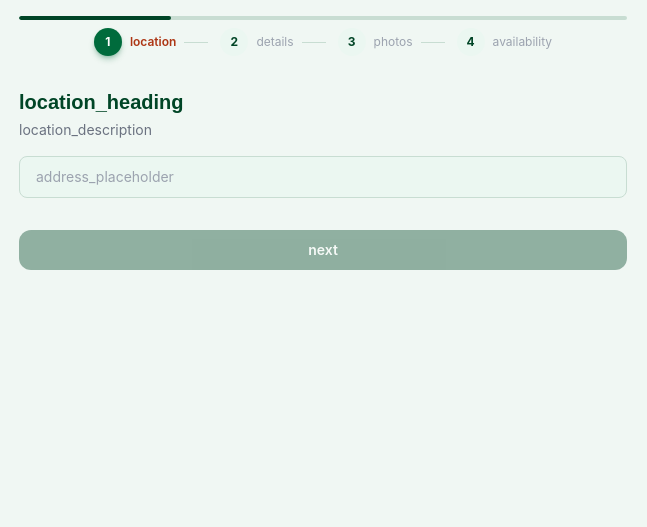
Test case: Listing wizard Step 1 — Location › selecting a geocoding result activates "Next" button
Step 1. Type "Rue N" into the field with placeholder "address_placeholder" → (323, 177), box [19,156,627,198]
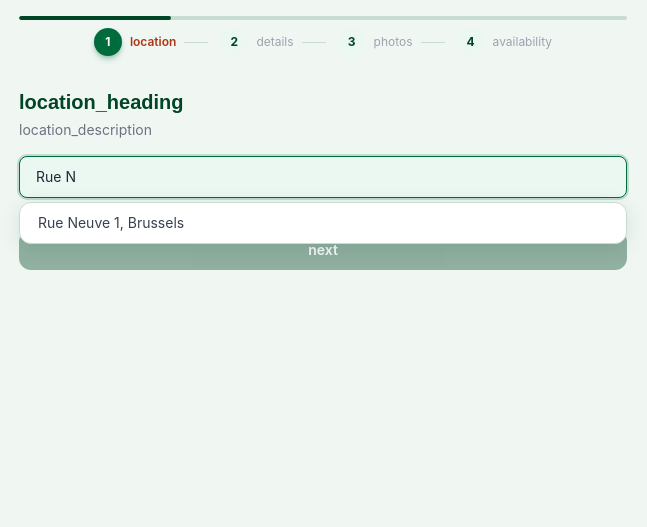
expect the list item "Rue Neuve 1, Brussels" is shown: met
Step 2. Click the list item "Rue Neuve 1, Brussels" → click(111, 222), box [38,214,184,231]
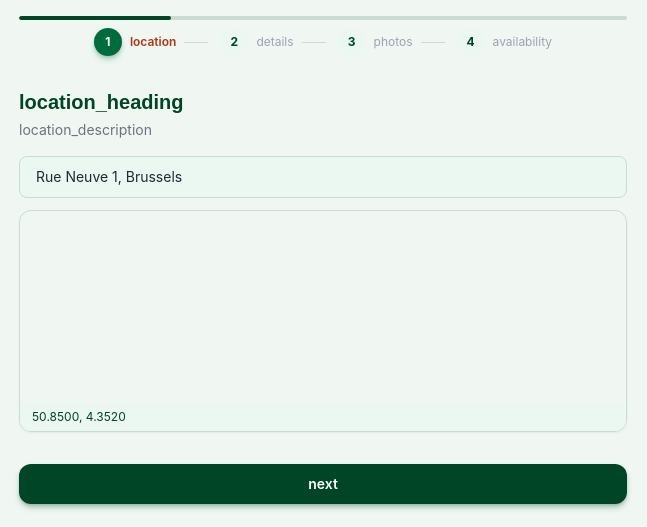
expect the button "next" is enabled: met, box [19,464,627,504]
